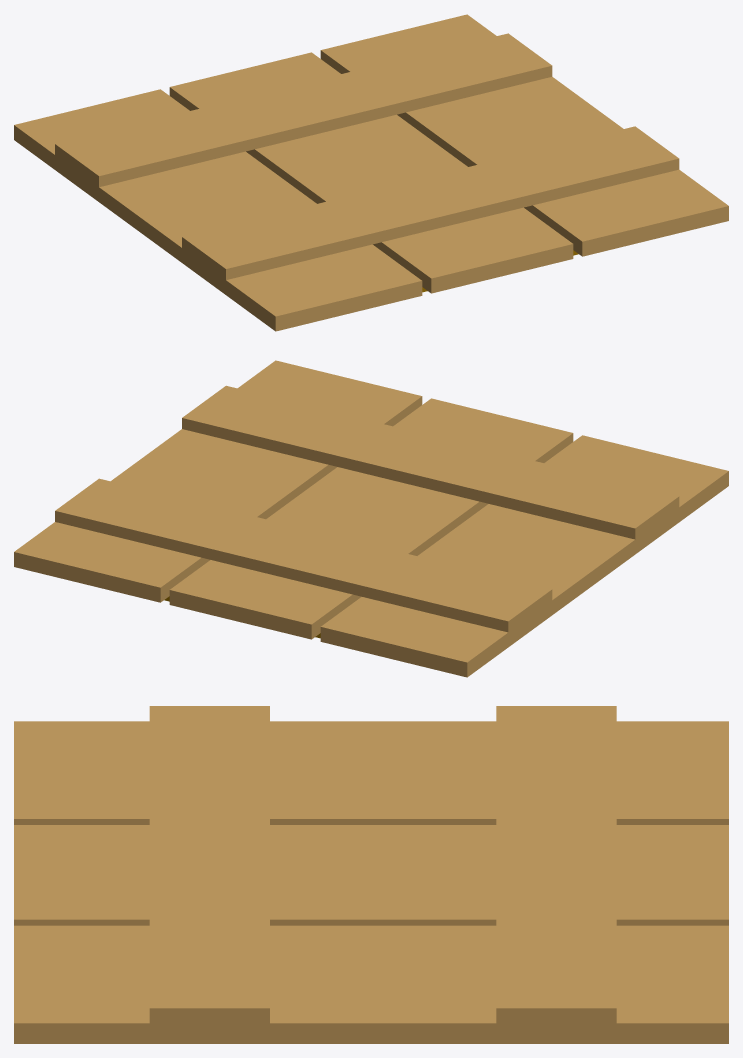
File: Prop_Crate_Opened_Top_01.fbx
3 renders of one model, top to bottom at view 1: azimuth 30°, elevation 25°; view 2: azimuth 150°, elevation 25°; view 3: azimuth 270°, elevation 25°, orthographic. The views are drawn at different scales.
Visible parts, largest first — view 1: Prop_Crate_Opened_Top_01; view 2: Prop_Crate_Opened_Top_01; view 3: Prop_Crate_Opened_Top_01.
Boxes of the visible parts, x1,y1,x2,y2 form: Prop_Crate_Opened_Top_01: (14,14,728,331); Prop_Crate_Opened_Top_01: (14,360,728,677); Prop_Crate_Opened_Top_01: (14,706,728,1043).
Size of the model in its own units: 56.25 by 3.84 by 56.25.
